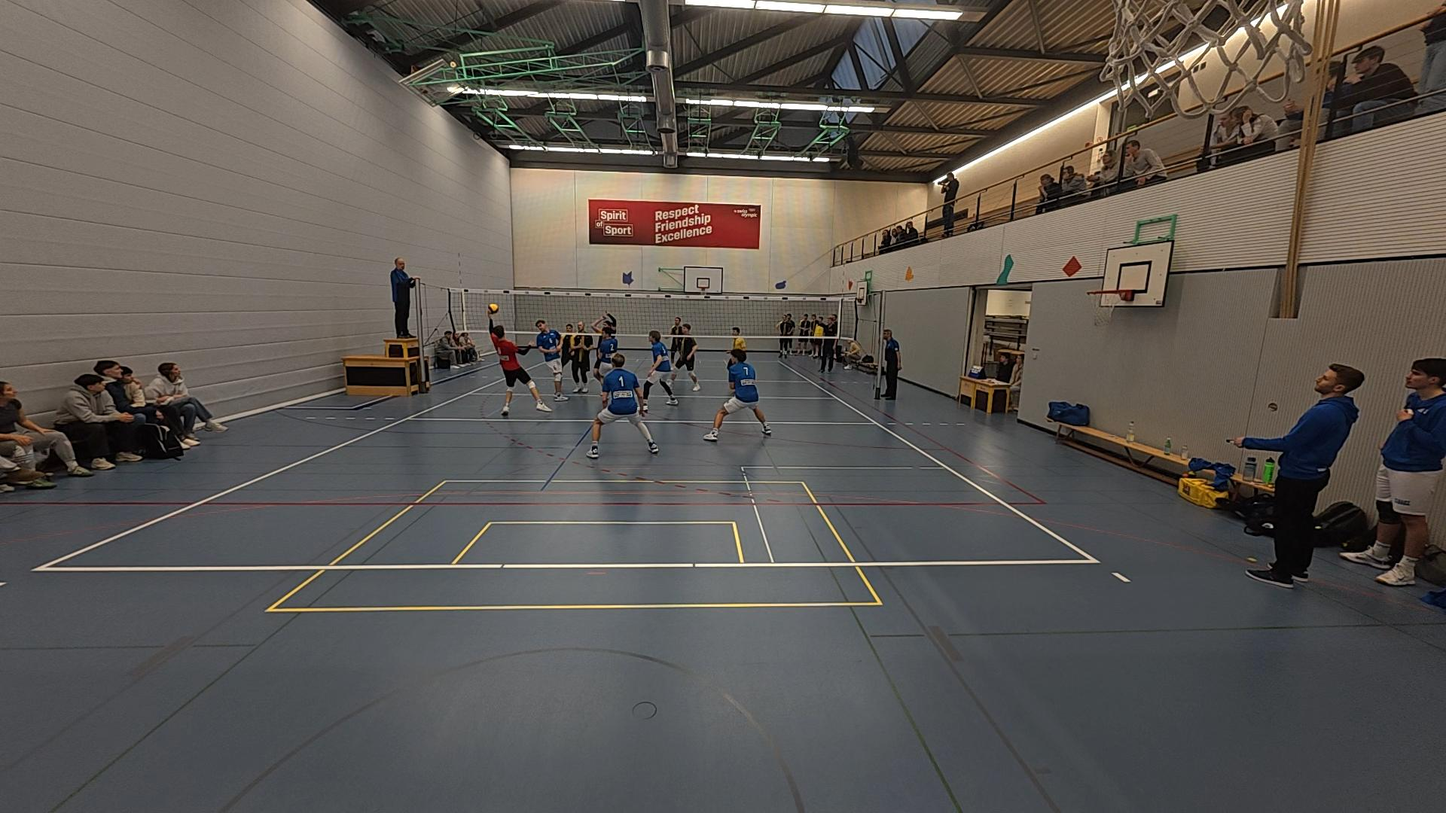Dig: (486, 317, 554, 419)
Player: (587, 354, 659, 458), (704, 348, 772, 442), (639, 327, 682, 414), (669, 320, 702, 391), (528, 318, 563, 377), (570, 321, 594, 397), (554, 318, 577, 394), (726, 327, 748, 391), (596, 310, 618, 370), (664, 315, 685, 370)
ball: (901, 265, 916, 280), (487, 301, 500, 313)
